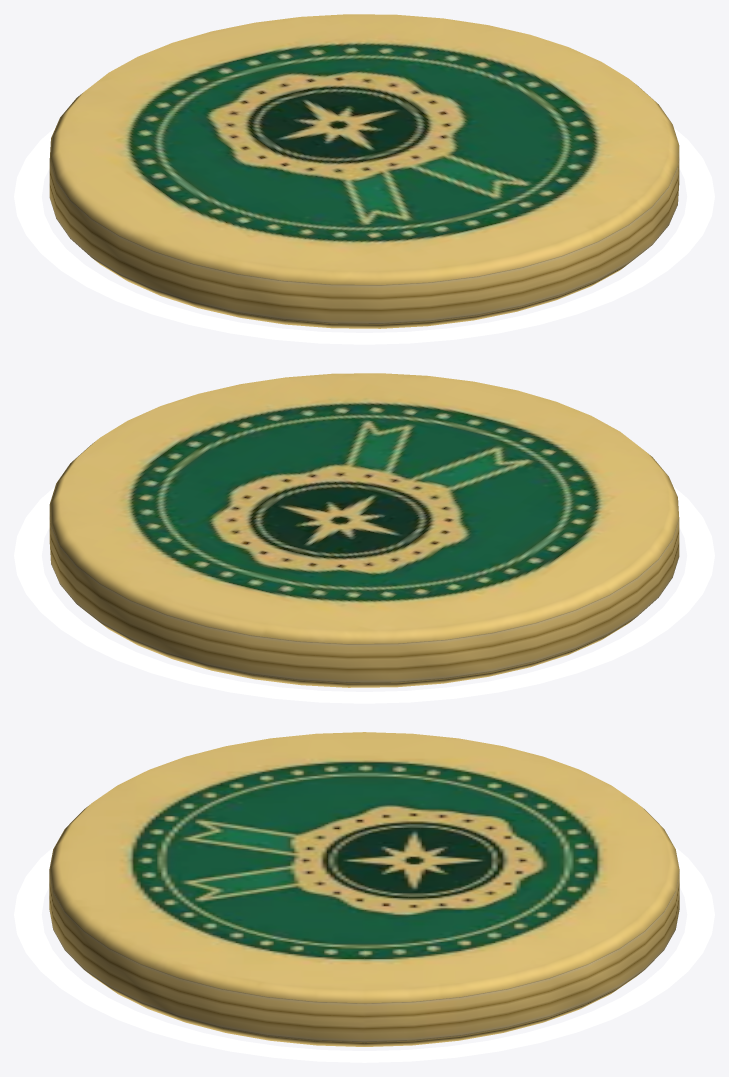
Rendered from Medallions.glb.
The picture shows the model from 3 angles, top to bottom: view 1: azimuth 30°, elevation 25°; view 2: azimuth 150°, elevation 25°; view 3: azimuth 270°, elevation 25°; orthographic projection.
Visible parts, largest first — view 1: Medallion_Ambassadeur, Medallion_Glow; view 2: Medallion_Ambassadeur, Medallion_Glow; view 3: Medallion_Ambassadeur, Medallion_Glow.
Boxes of the visible parts, box(x1,y1,x2,y2) form: Medallion_Ambassadeur: box(49, 14, 679, 328); Medallion_Glow: box(14, 127, 714, 344); Medallion_Ambassadeur: box(49, 373, 679, 687); Medallion_Glow: box(14, 486, 714, 703); Medallion_Ambassadeur: box(49, 732, 679, 1046); Medallion_Glow: box(14, 846, 714, 1062).
Size of the model in its own units: 0.0556 by 0.005 by 0.0556.
2 materials, 1 textured.
